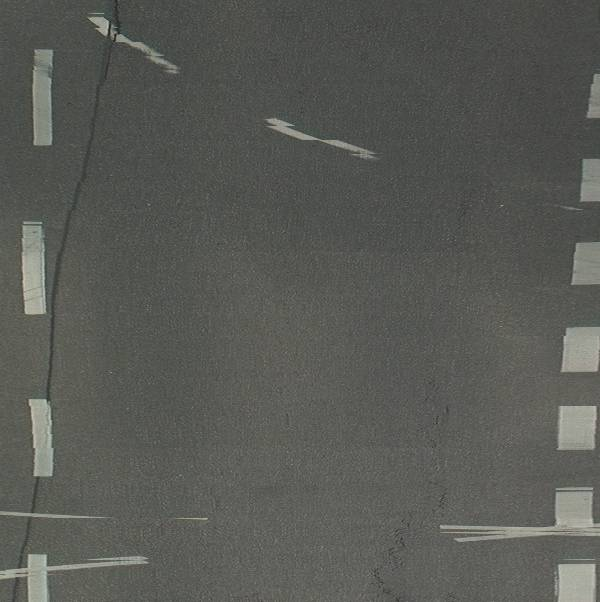road_damage: (374, 512, 416, 595), (413, 395, 448, 465), (105, 2, 125, 50)
